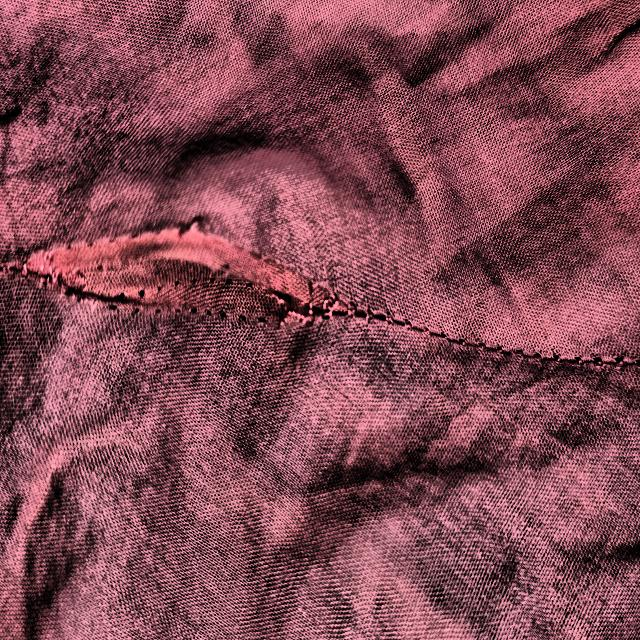seam: (16, 192, 380, 382)
